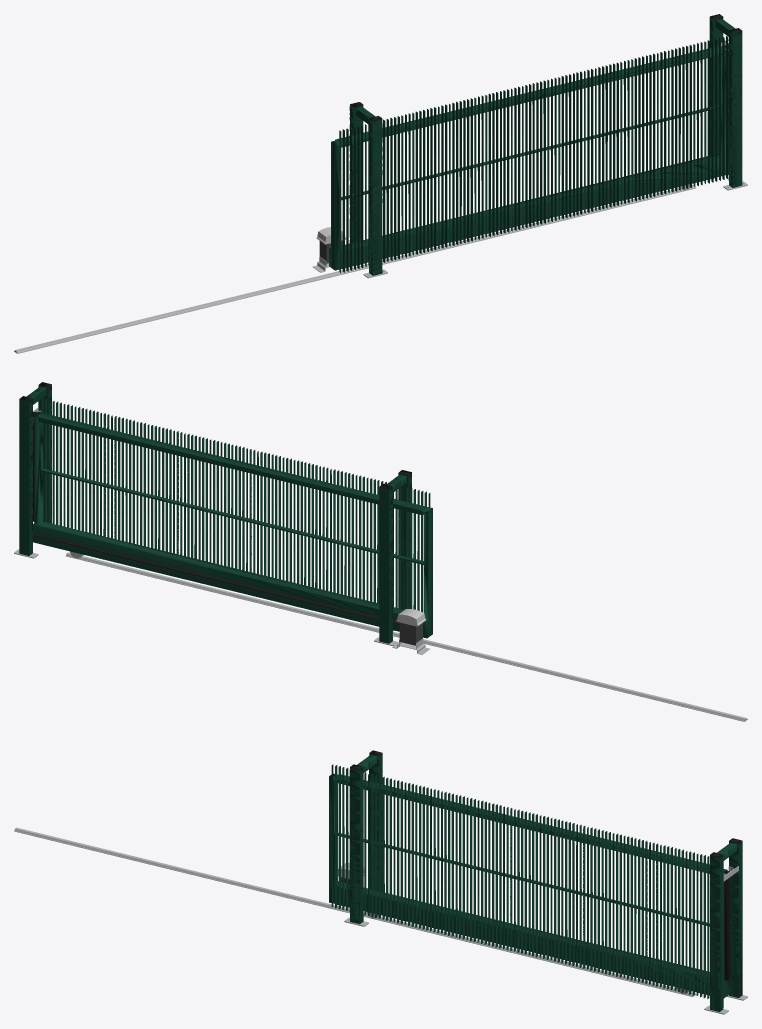
3 views of the same model, one above another, from view 1: azimuth 30°, elevation 25°; view 2: azimuth 150°, elevation 25°; view 3: azimuth 330°, elevation 25° (orthographic).
Parts seen in each view (by area): view 1: so_portao; view 2: so_portao; view 3: so_portao.
Boxes of the visible parts, x1=… form: so_portao: x1=14, y1=14, x2=747, y2=353; so_portao: x1=14, y1=382, x2=747, y2=721; so_portao: x1=14, y1=750, x2=747, y2=1014.
Size of the model in its own units: 8.49 by 1.75 by 0.523.
